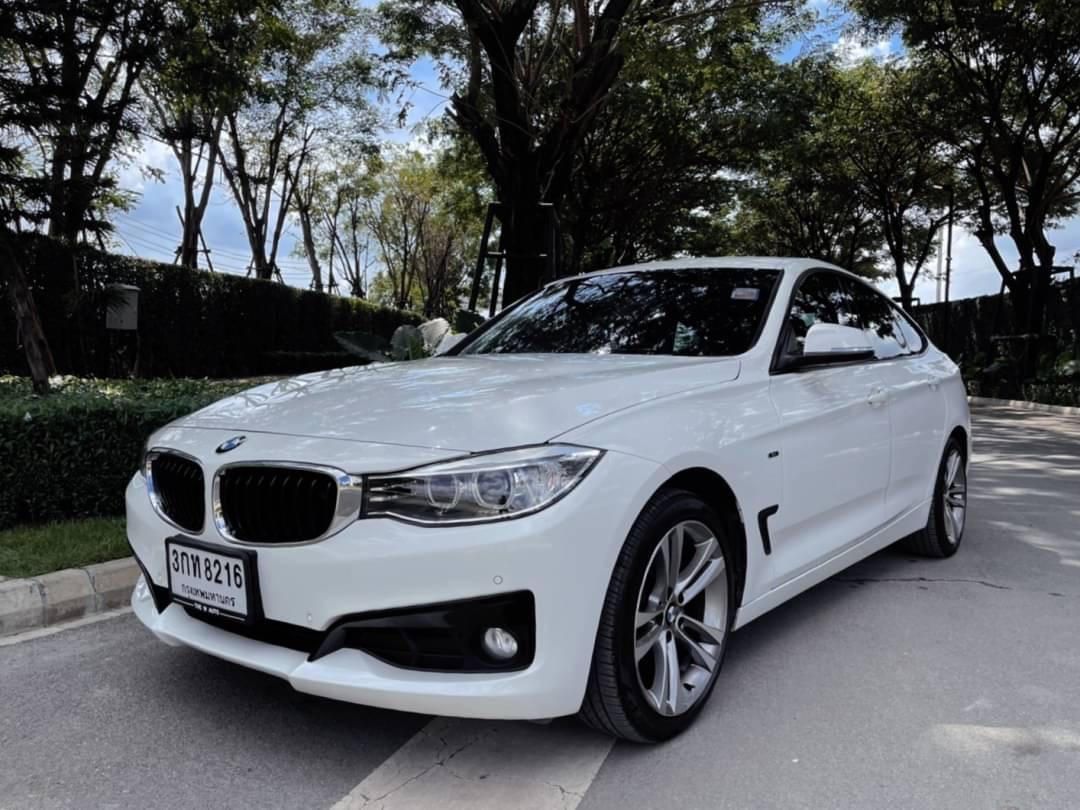license-plate: (160, 528, 262, 631)
